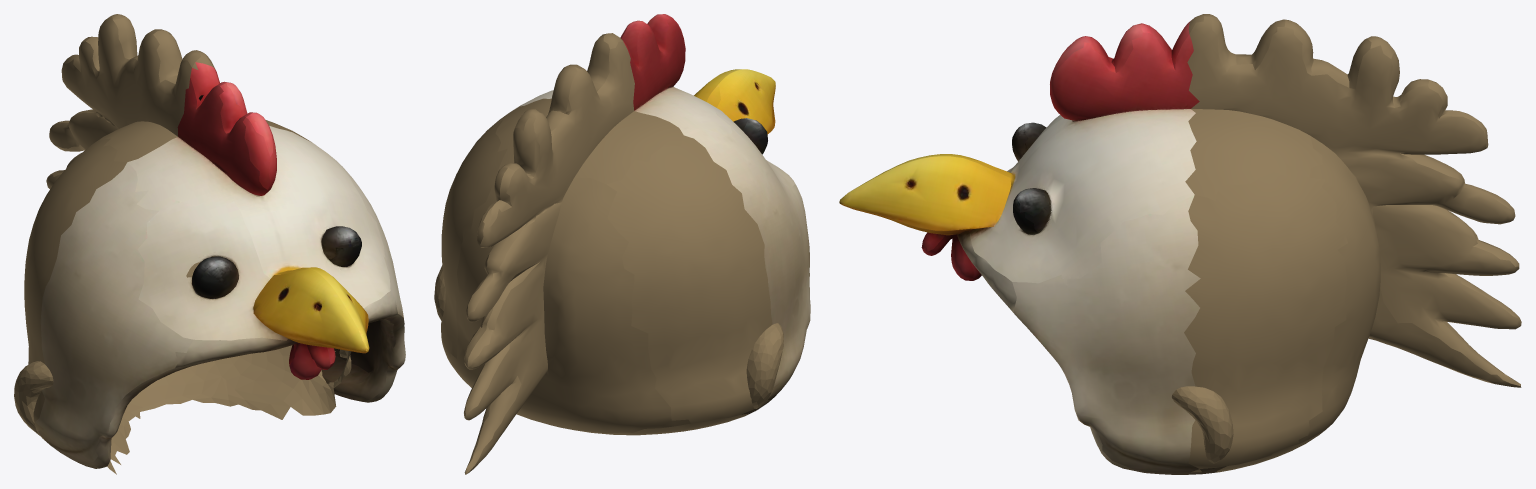
The model's file is chicken.glb.
3 renders of one model, left to right at view 1: azimuth 30°, elevation 25°; view 2: azimuth 150°, elevation 25°; view 3: azimuth 270°, elevation 25°, orthographic. The views are drawn at different scales.
Parts seen in each view (by area): view 1: geometry_0, HoodAnatomicalLining; view 2: geometry_0, HoodAnatomicalLining; view 3: geometry_0, HoodAnatomicalLining.
Part boxes in pixels (x1,y1,x2,y2): geometry_0: [24, 14, 405, 468]; HoodAnatomicalLining: [14, 262, 351, 474]; geometry_0: [441, 14, 810, 474]; HoodAnatomicalLining: [434, 265, 783, 408]; geometry_0: [839, 14, 1521, 474]; HoodAnatomicalLining: [1172, 386, 1233, 463].
Bounding box in the file's own units: 0.515 × 0.5307 × 0.8089.
Materials: 2 (1 with a texture image).
